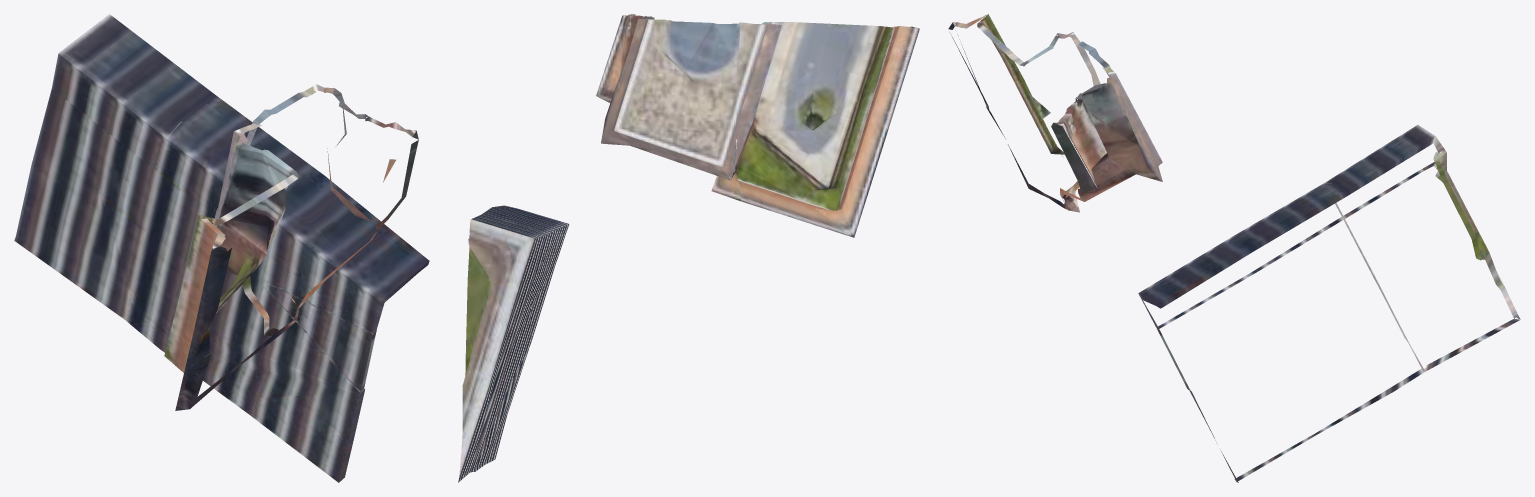
Rendered from AJVsH2xHmmyZxAJJFYsFh0H5uQq1T4K5b7335tkpz8Dn2pyxangVr0Ja39L9hHi39IDLaLHJcX_RL7kI7n8sgWM8kZ06edqmztL-DhhBuMUxSmo4KURvkTn2_ApX-8Jz2HcHqByfh5qKFL3NvhJapn4F4a8T.glb.
The picture shows the model from 3 angles, left to right: view 1: azimuth 30°, elevation 25°; view 2: azimuth 150°, elevation 25°; view 3: azimuth 270°, elevation 25°; orthographic projection. The views are drawn at different scales.
Size of the model in its own units: 25.88 by 33.83 by 47.33.
Materials: 1 (1 with a texture image).
